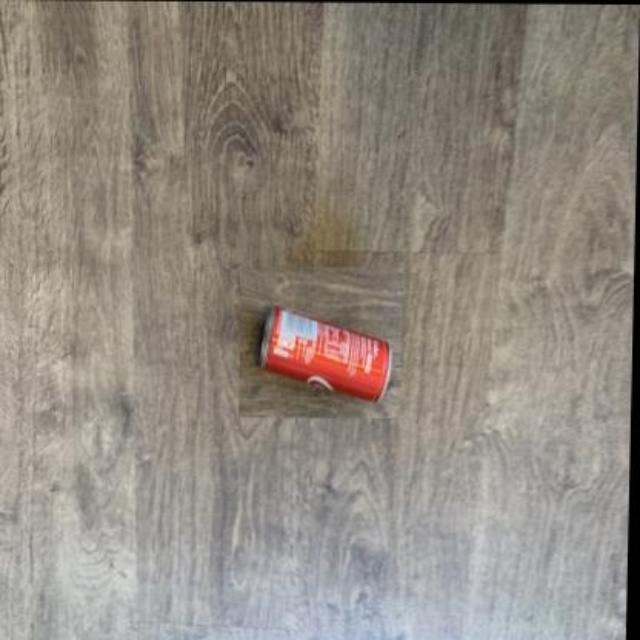trash: (260, 306, 389, 400)
